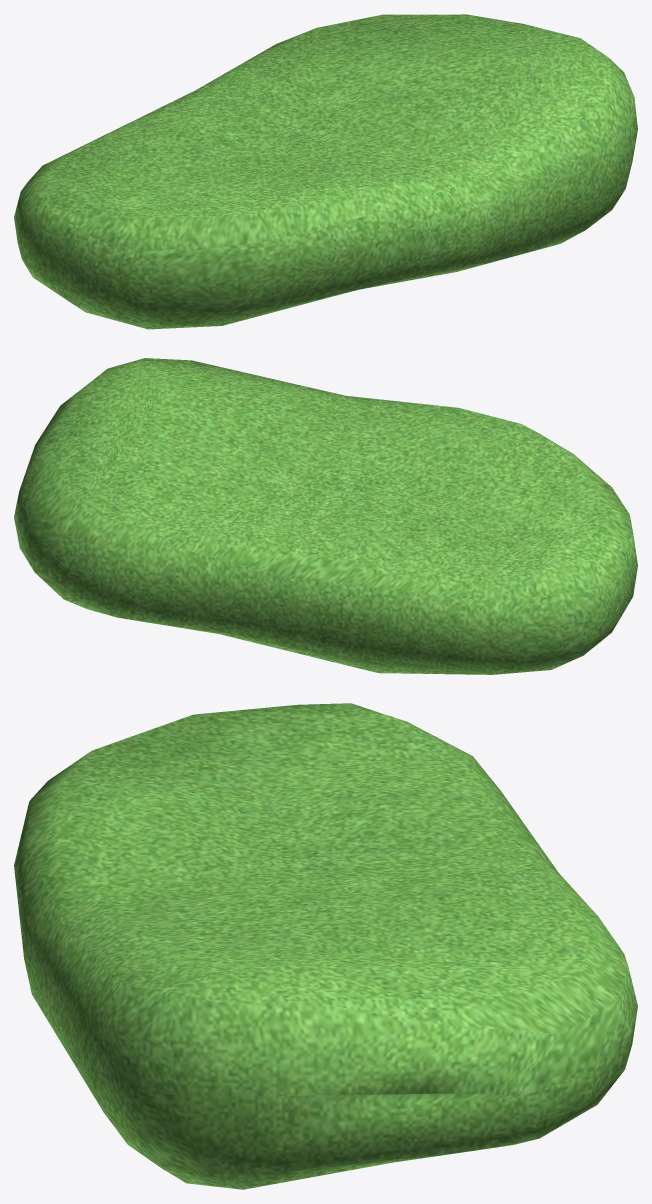
File: HikeGardenBeanALow.fbx
3 renders of one model, top to bottom at view 1: azimuth 30°, elevation 25°; view 2: azimuth 150°, elevation 25°; view 3: azimuth 270°, elevation 25°, orthographic. The views are drawn at different scales.
Parts seen in each view (by area): view 1: mesh-0.001; view 2: mesh-0.001; view 3: mesh-0.001.
Boxes of the visible parts, x1,y1,x2,y2 form: mesh-0.001: (14,14,637,329); mesh-0.001: (14,358,637,674); mesh-0.001: (14,703,637,1189).
Size of the model in its own units: 779735 by 225980 by 536157.
